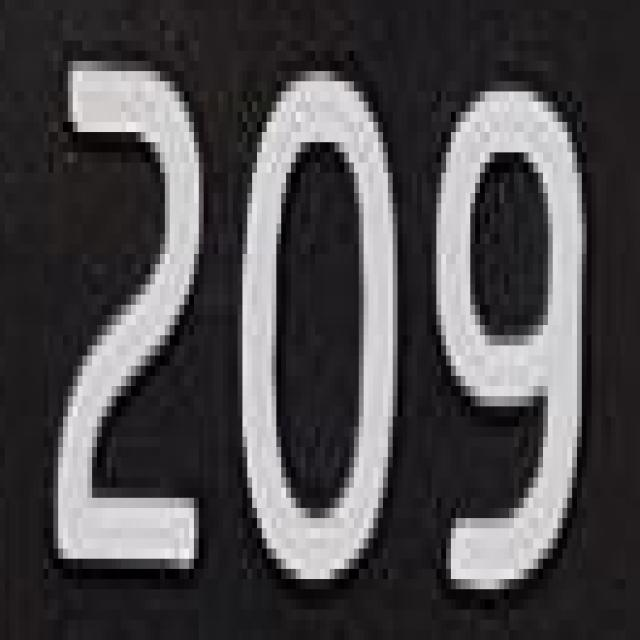character: (236, 57, 406, 600), (49, 49, 211, 590), (431, 74, 592, 601)
